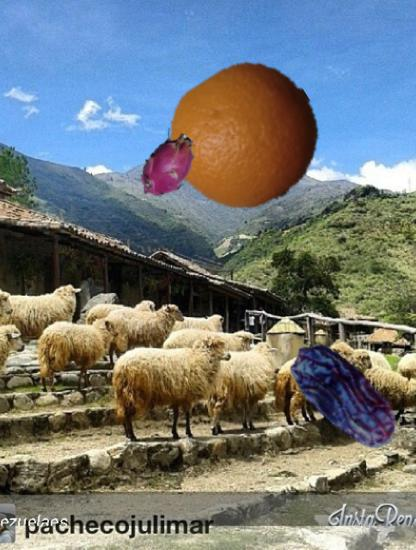Dates: (279, 331, 410, 462)
Orange: (170, 63, 320, 213)
Pitahaya: (133, 132, 204, 203)
